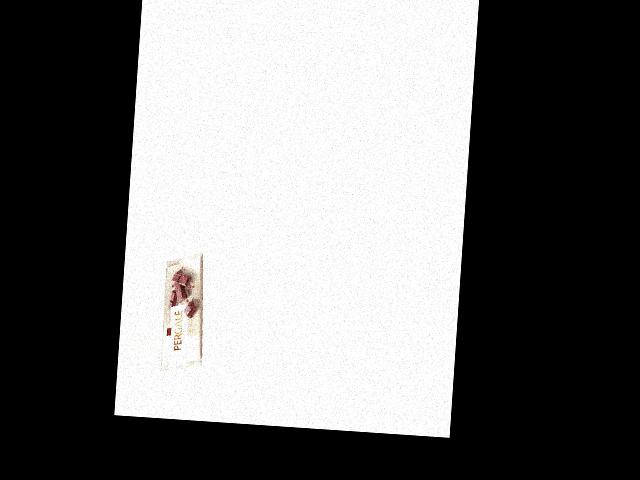chocolate: (159, 248, 208, 375)
